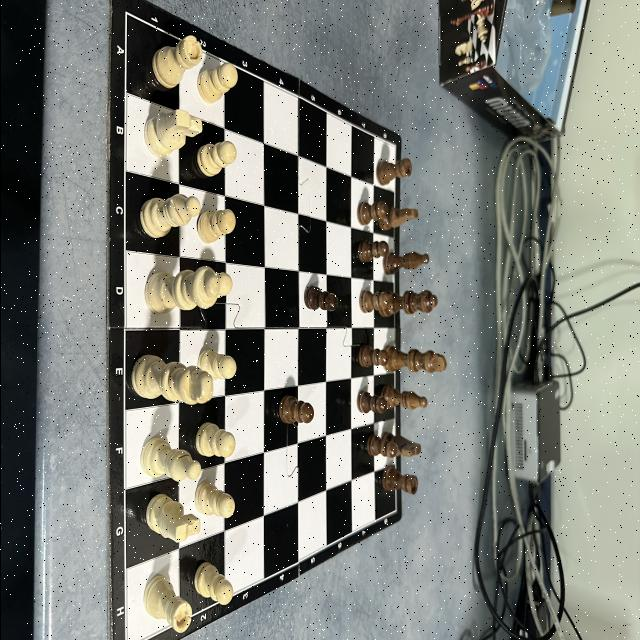Black-Bishop: (383, 250, 430, 274), (382, 388, 428, 412)
Black-King: (382, 348, 448, 376)
Black-Knight: (380, 207, 419, 231), (385, 434, 421, 458)
Black-Pawn: (303, 286, 338, 314), (278, 398, 314, 424), (356, 200, 388, 224), (364, 435, 396, 458), (356, 390, 386, 414), (356, 346, 388, 368), (356, 241, 388, 262), (360, 292, 390, 312)
Black-Queen: (383, 292, 438, 314)
Black-Rook: (376, 159, 411, 185), (381, 468, 416, 494)
White-Bishop: (139, 194, 200, 239), (141, 438, 201, 482)
White-King: (132, 354, 214, 404)
White-Knight: (146, 494, 200, 542), (146, 109, 202, 154)
White-Pawn: (193, 562, 235, 608), (195, 64, 238, 104), (194, 424, 234, 460), (196, 209, 237, 243), (198, 142, 236, 178), (194, 484, 234, 518), (197, 351, 237, 378), (215, 272, 232, 298)
White-Queen: (144, 268, 218, 314)
White-Rook: (144, 573, 192, 633), (150, 35, 202, 90)
